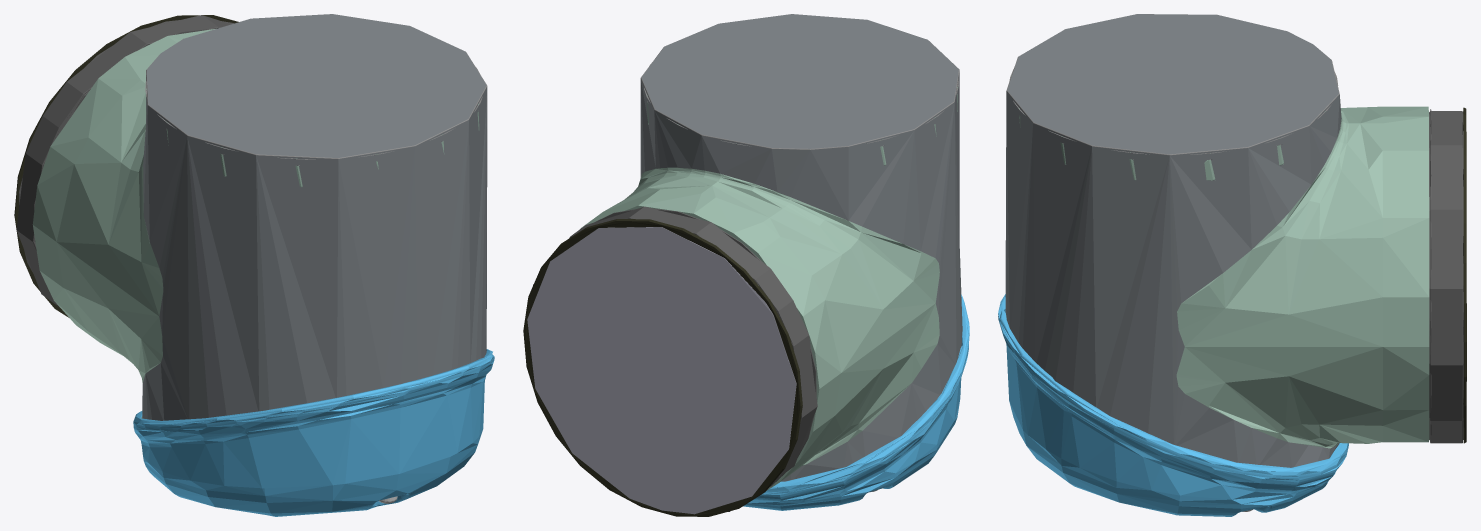
File: WRIST1ADJUSTED2.fbx
The picture shows the model from 3 angles, left to right: view 1: azimuth 30°, elevation 25°; view 2: azimuth 150°, elevation 25°; view 3: azimuth 270°, elevation 25°; orthographic projection. The views are drawn at different scales.
Visible parts, largest first — view 1: WRIST1ADJUSTED; view 2: WRIST1ADJUSTED; view 3: WRIST1ADJUSTED.
Part boxes in pixels (bbox=[...]): WRIST1ADJUSTED: bbox=[14, 14, 494, 516]; WRIST1ADJUSTED: bbox=[523, 14, 969, 516]; WRIST1ADJUSTED: bbox=[998, 14, 1466, 516].
Bounding box in the file's own units: 9.4 × 11.41 × 12.55.
